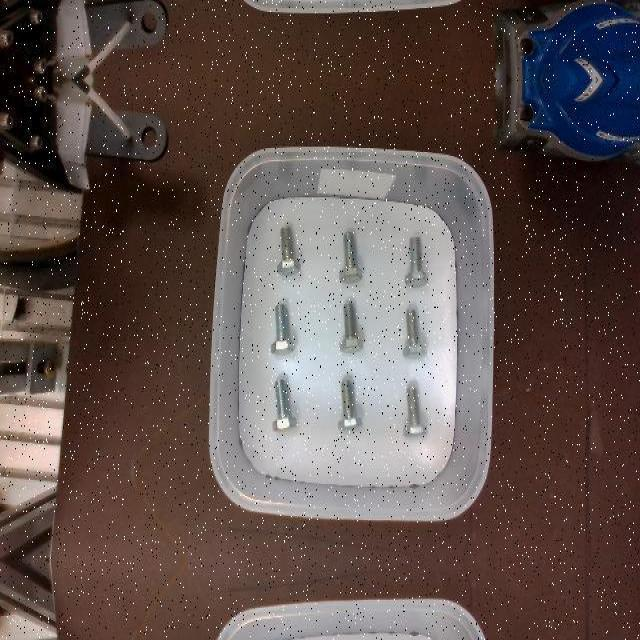screw: (402, 306, 427, 358), (338, 231, 362, 285), (276, 224, 300, 276), (339, 301, 363, 353), (271, 304, 295, 354), (272, 379, 296, 429), (403, 385, 427, 435), (405, 236, 428, 286), (339, 379, 362, 429)
